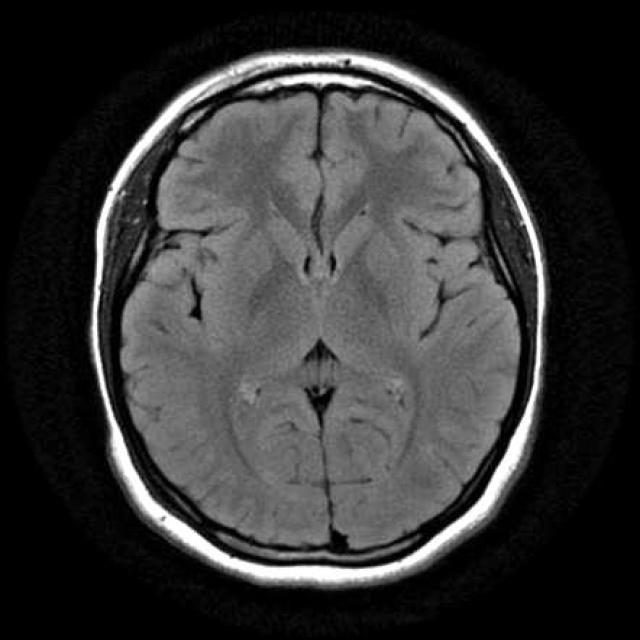no-tumor: (182, 168, 478, 484)
